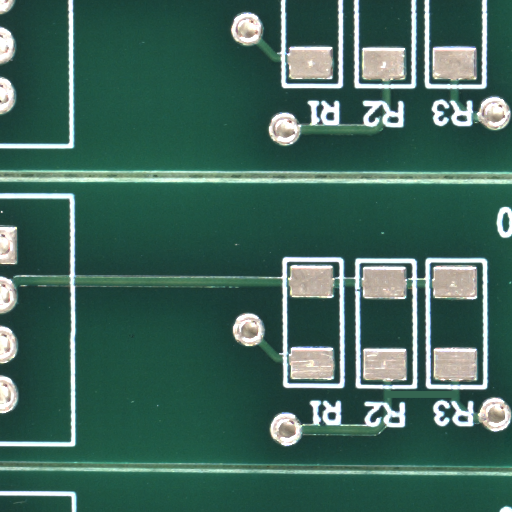Short: (421, 394, 500, 409)
